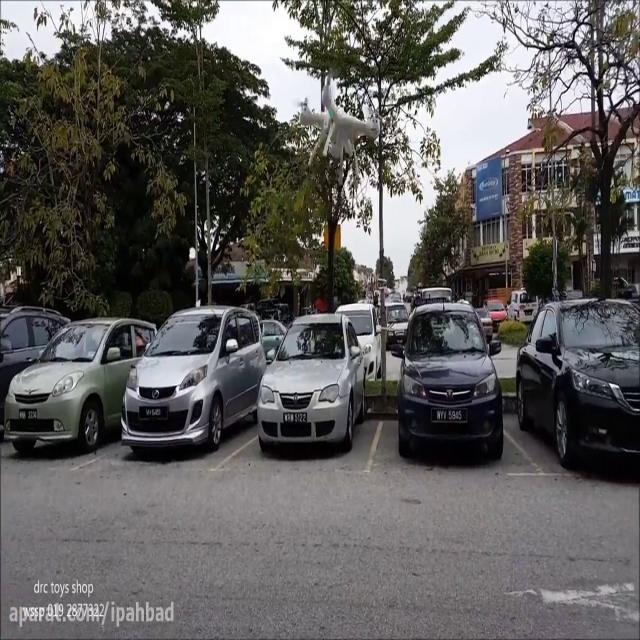drone: (296, 62, 384, 187)
